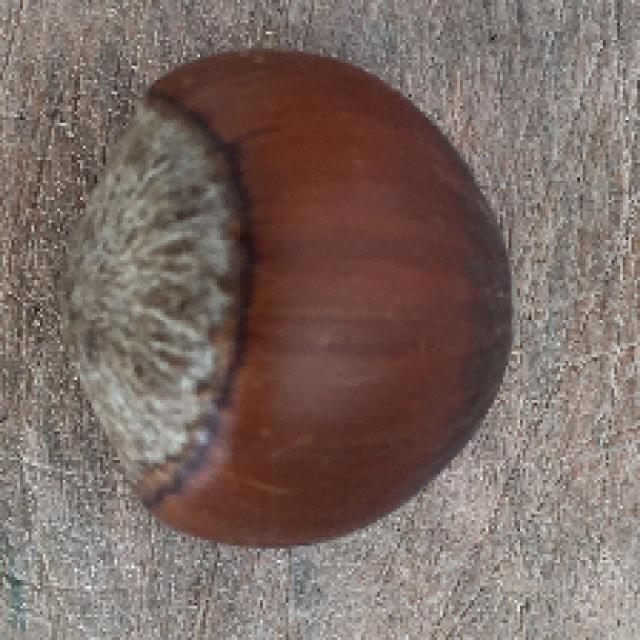damagedHazelnut: (67, 49, 518, 554)
